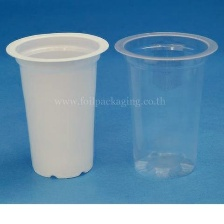glass: (109, 30, 219, 185), (2, 30, 108, 183)
